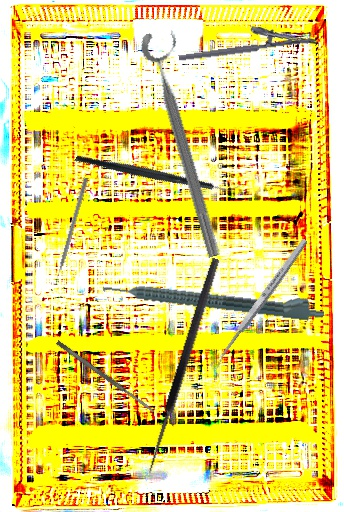Chopper: (74, 101, 243, 243)
Fixation Ring: (137, 26, 239, 260)
Handpiece: (102, 271, 326, 323)
Hook Surgical: (145, 257, 231, 478)
Needle Holder: (175, 18, 318, 62)
Pusher: (52, 176, 89, 286)
Spatula Surgical: (55, 339, 156, 415)
Surgical Spoon: (208, 237, 310, 371)
